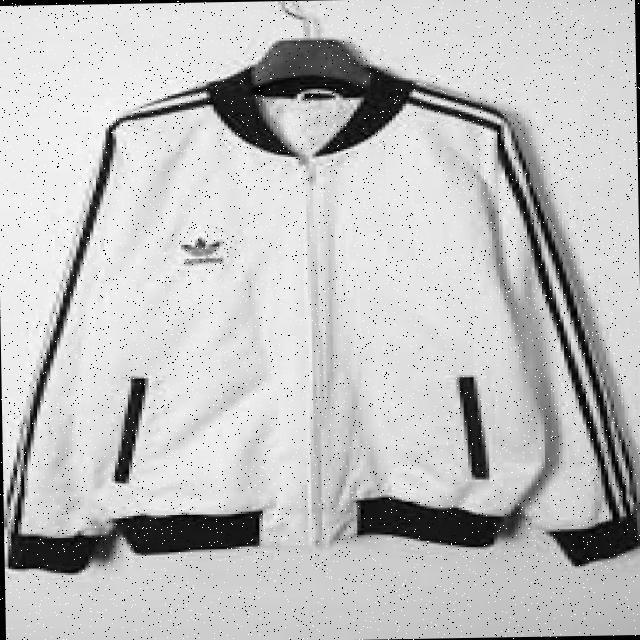Adidas: (170, 226, 237, 264)
